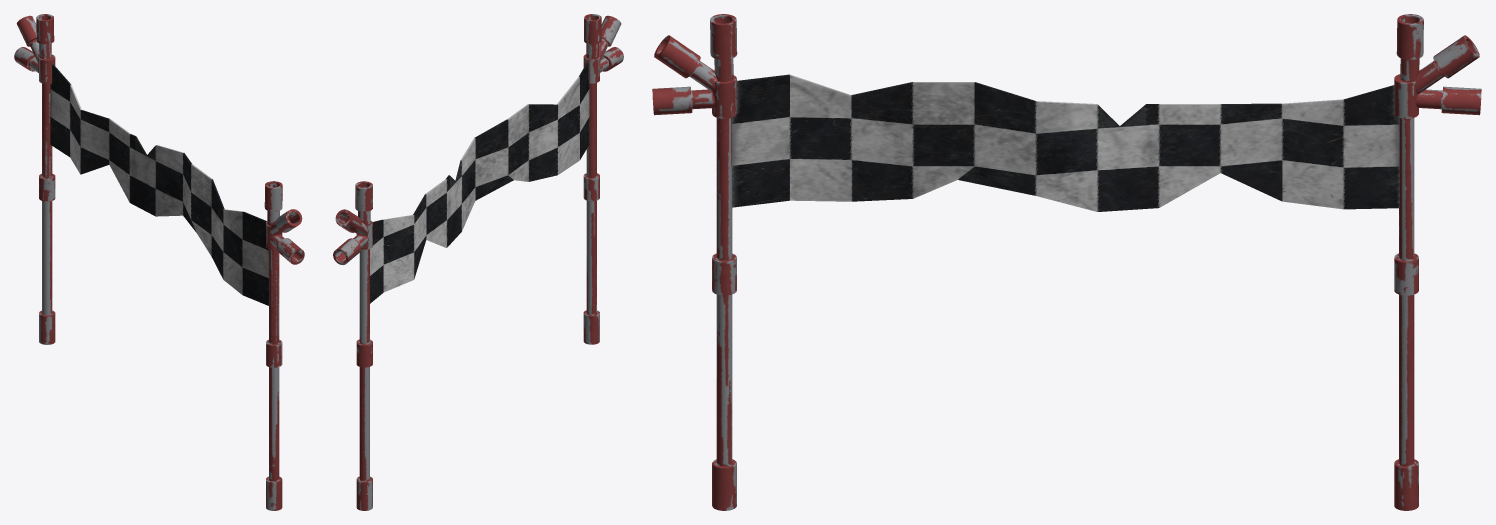
Rendered from finish_line.obj.
3 renders of one model, left to right at view 1: azimuth 30°, elevation 25°; view 2: azimuth 150°, elevation 25°; view 3: azimuth 270°, elevation 25°, orthographic. The views are drawn at different scales.
Parts seen in each view (by area): view 1: polySurface1271_Untitled; view 2: polySurface1271_Untitled; view 3: polySurface1271_Untitled.
Part boxes in pixels (<box>): polySurface1271_Untitled: <box>14,14,304,510</box>; polySurface1271_Untitled: <box>333,14,623,510</box>; polySurface1271_Untitled: <box>652,14,1481,510</box>.
Size of the model in its own units: 0.308 by 4 by 6.19.
Materials: 1 (1 with a texture image).
